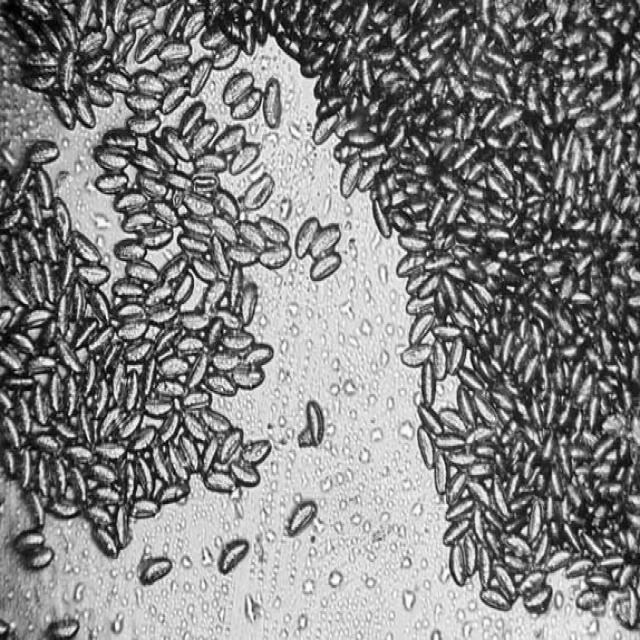Enterobius Vermicularis: (217, 531, 249, 579), (136, 549, 175, 587), (292, 215, 322, 262), (302, 399, 330, 449), (234, 284, 262, 329), (282, 501, 313, 535), (228, 364, 266, 391), (256, 241, 289, 271), (228, 458, 260, 486), (112, 237, 149, 261)
